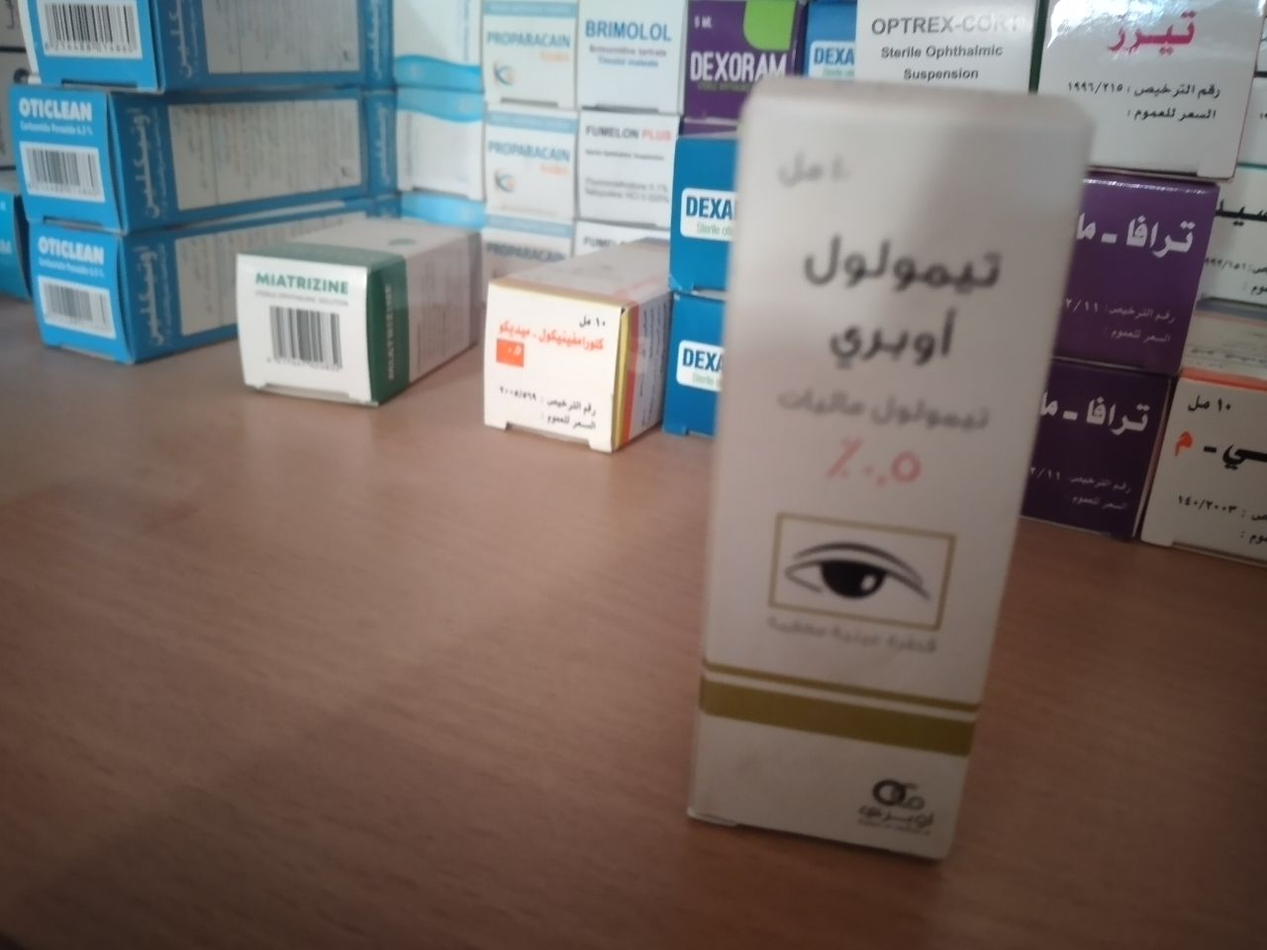Medicine: (653, 64, 1106, 866), (15, 74, 416, 210), (215, 235, 492, 423), (1052, 0, 1267, 181), (25, 208, 265, 366), (15, 2, 391, 87), (478, 275, 646, 463)
